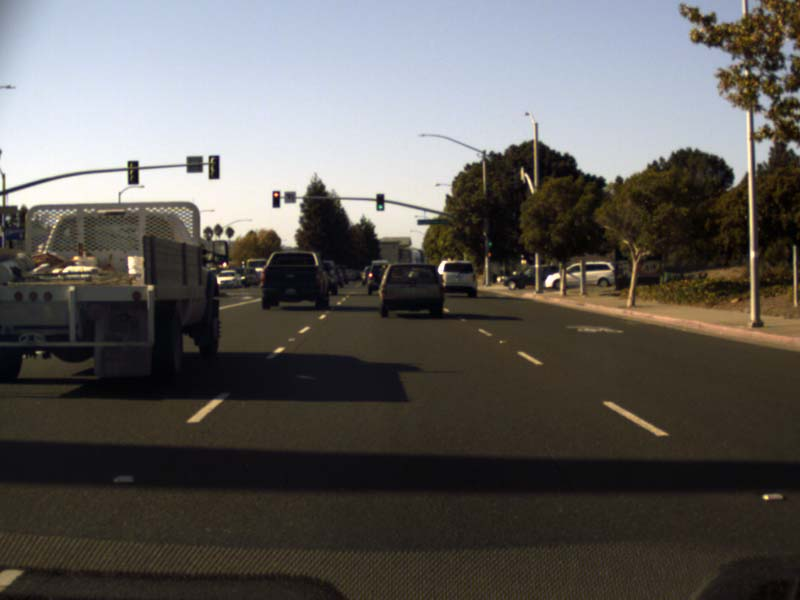Green: (376, 193, 384, 210), (488, 233, 492, 246)
Red: (272, 191, 279, 207)
